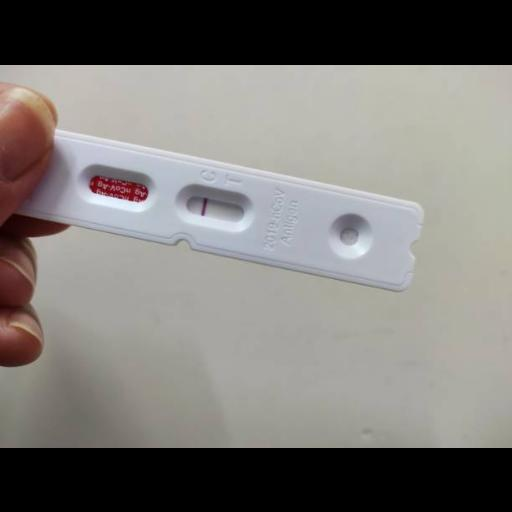Neg: (41, 129, 427, 294)
